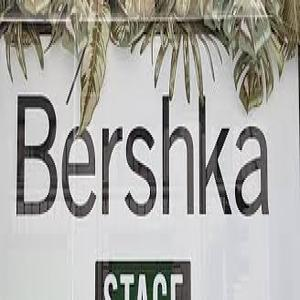bershka: (12, 88, 270, 236)
